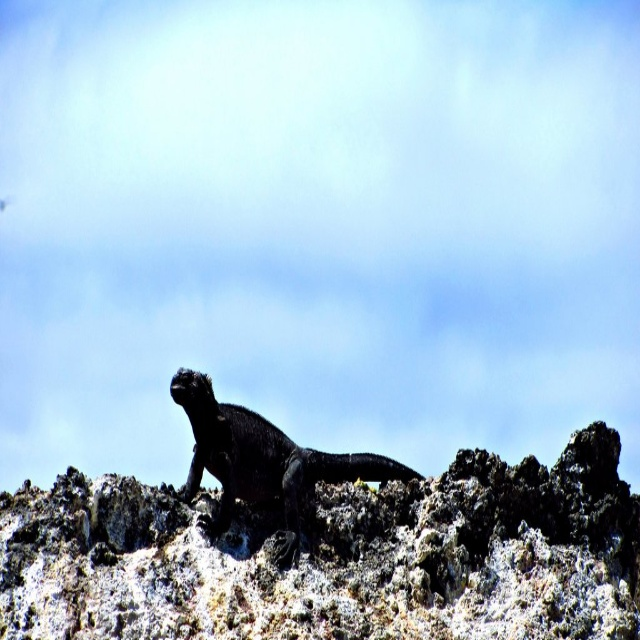Lizard: (174, 357, 413, 570)
